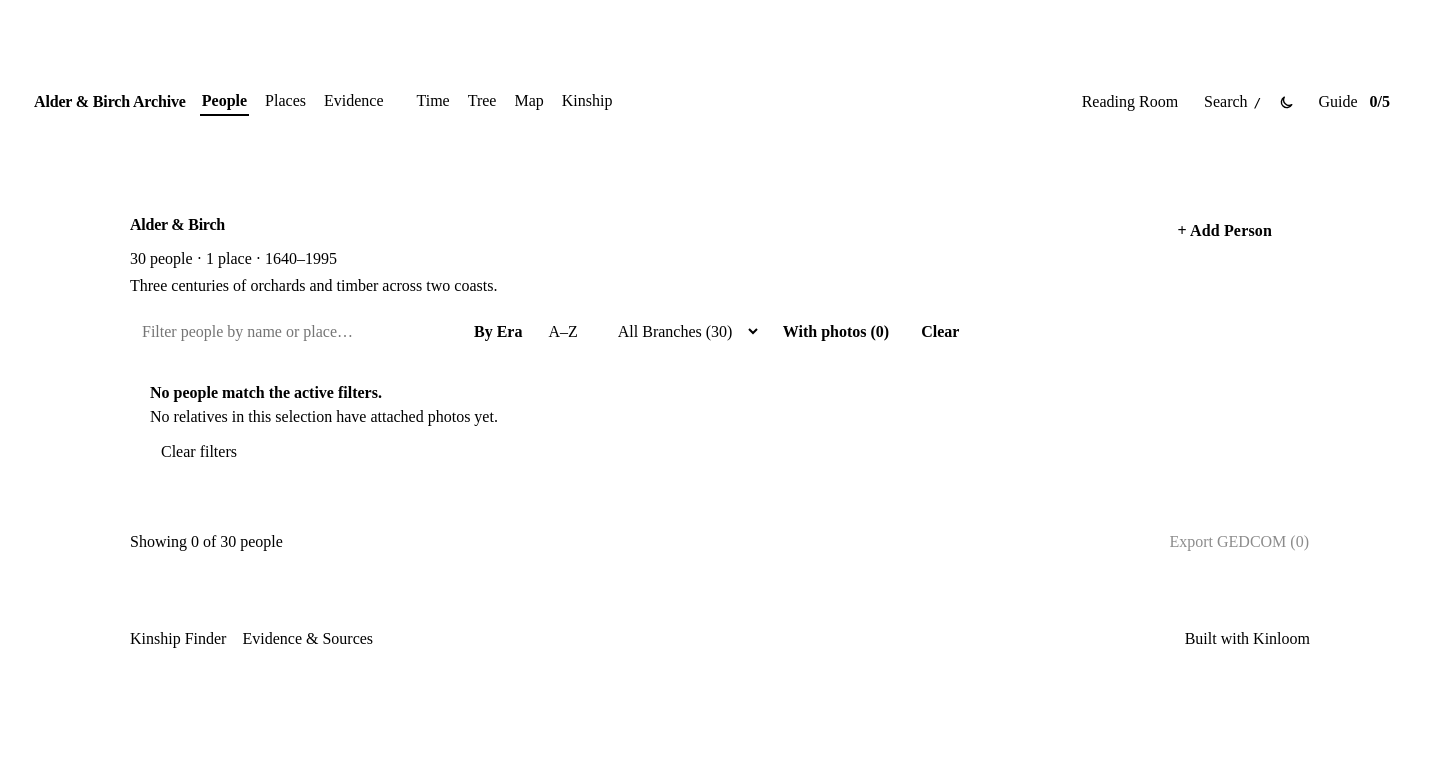
Test: IndexPage People Directory (#65) › simplifies era headers, supports progressive Filters popover, separates + Add Person, and renders living-safe story hooks (#89)
Earlier steps of the test are not shown.
Later steps or results of the test are not shown.
Press the mouse on the element that starts with "Skip to content" at (720, 345), box [8,8,1432,682]
Click the button with class "index-clear-btn" at (940, 332), box [911,317,969,347]
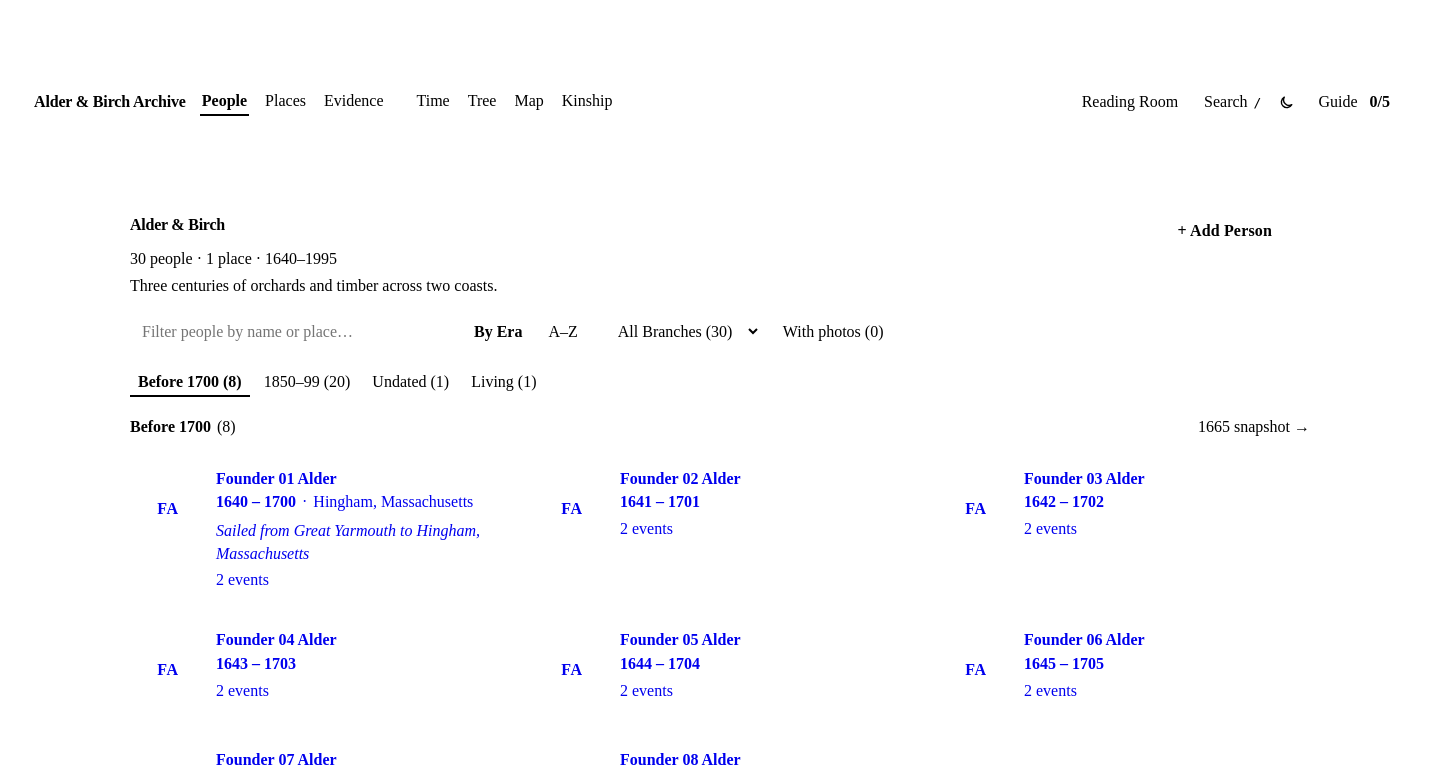
expect the link "Before 1700 (8)" is shown: met, box [130,369,250,397]
expect the link "1850–99 (20)" is shown: met, box [264,373,350,390]
expect the element with class "index-section-heading-title" reads "Before 1700 (8)": met, box [130,418,236,436]
Click the button "A–Z" at (563, 332), box [536,318,590,346]
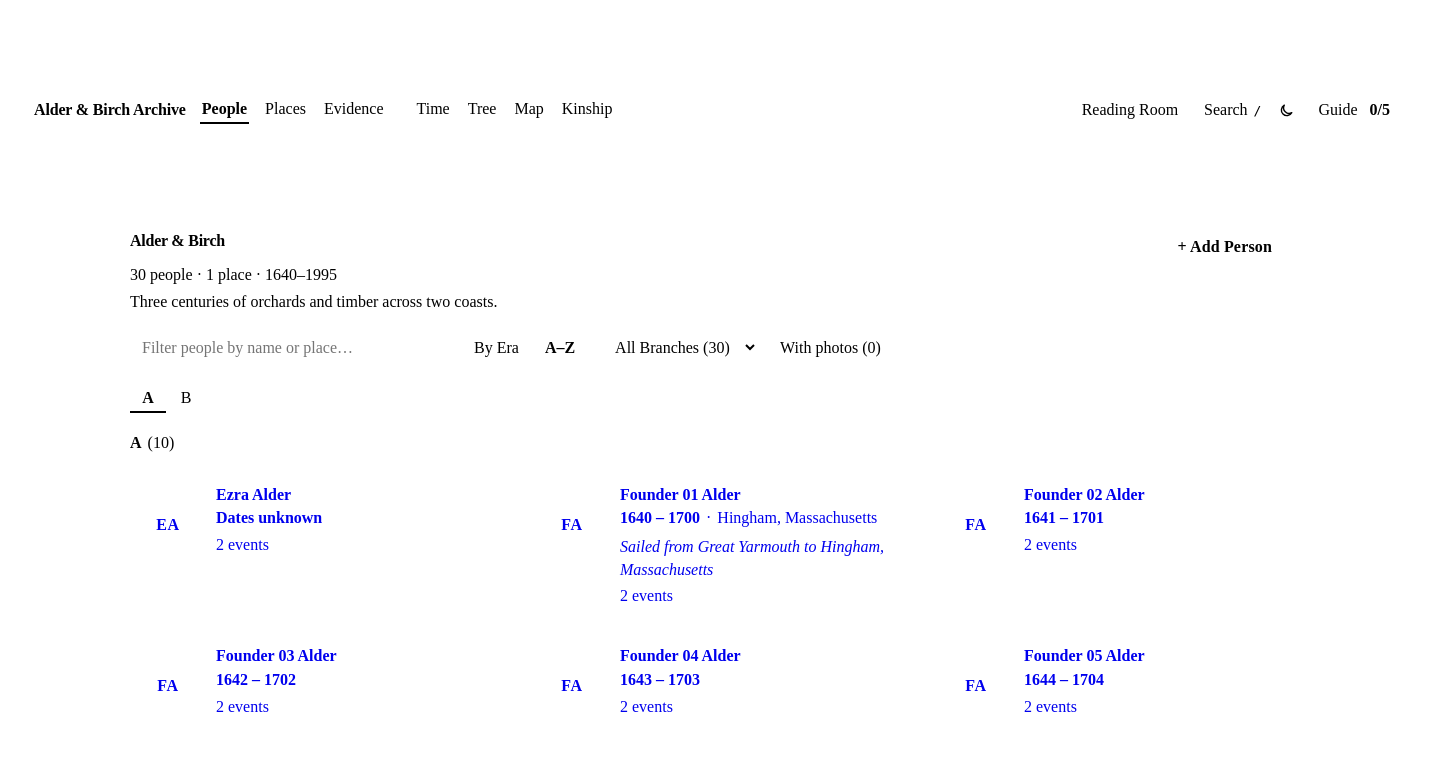
expect the text with class "jump-count" is gone: met
